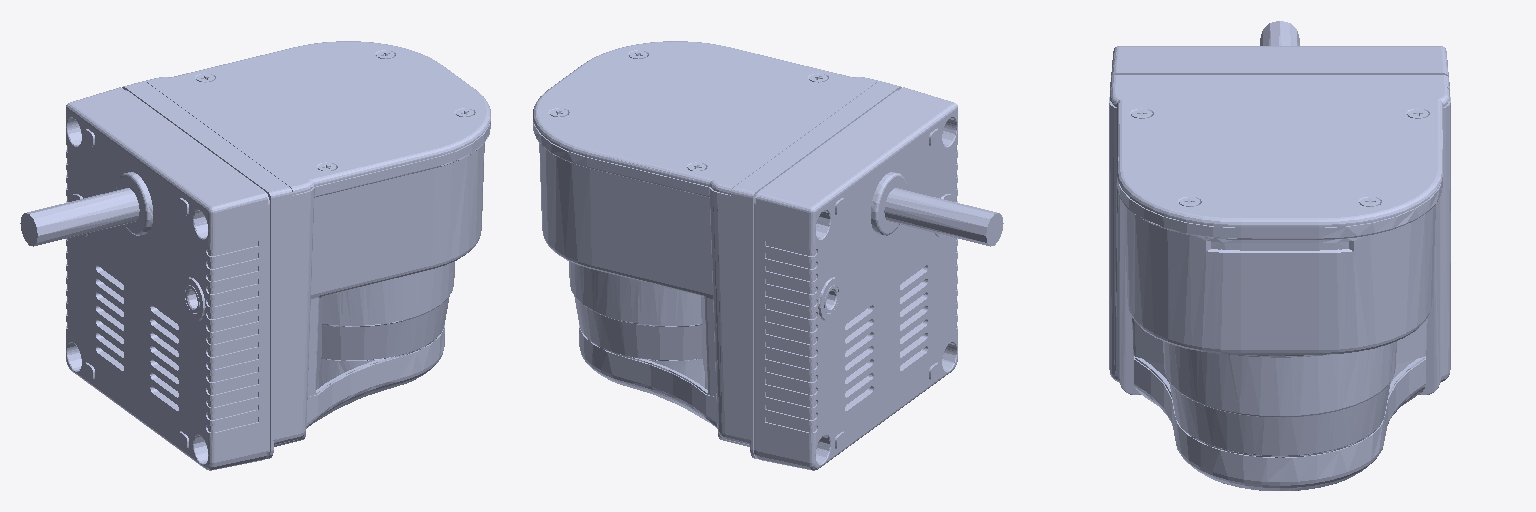
The robot description file, URDF, robot "RS3":
<robot
  name="RS3">
  <link
    name="base_link">
    <inertial>
      <origin
        xyz="-0.079655 -8.9506E-05 0.19583"
        rpy="0 0 0" />
      <mass
        value="20.959" />
      <inertia
        ixx="1.508"
        ixy="-0.00017676"
        ixz="0.024996"
        iyy="1.3558"
        iyz="0.00033804"
        izz="0.51605" />
    </inertial>
    <visual>
      <origin
        xyz="0 0 0"
        rpy="0 0 0" />
      <geometry>
        <mesh
          filename="package://final_design_2/meshes/base_link.STL" />
      </geometry>
      <material
        name="">
        <color
          rgba="0.75294 0.75294 0.75294 1" />
      </material>
    </visual>
    <collision>
      <origin
        xyz="0 0 0"
        rpy="0 0 0" />
      <geometry>
        <mesh
          filename="package://final_design_2/meshes/base_link.STL" />
      </geometry>
    </collision>
  </link>
  <link
    name="base_scan">
    <inertial>
      <origin
        xyz="-0.018008 -9.1976E-06 -0.0097984"
        rpy="0 0 0" />
      <mass
        value="0.20455" />
      <inertia
        ixx="1.8041E-09"
        ixy="-2.9272E-10"
        ixz="4.181E-10"
        iyy="1.6875E-09"
        iyz="2.16E-10"
        izz="1.4052E-09" />
    </inertial>
    <visual>
      <origin
        xyz="0 0 0"
        rpy="0 0 0" />
      <geometry>
        <mesh
          filename="package://final_design_2/meshes/base_scan.STL" />
      </geometry>
      <material
        name="">
        <color
          rgba="0.79216 0.81961 0.93333 1" />
      </material>
    </visual>
    <collision>
      <origin
        xyz="0 0 0"
        rpy="0 0 0" />
      <geometry>
        <mesh
          filename="package://final_design_2/meshes/base_scan.STL" />
      </geometry>
    </collision>
  </link>
  <joint
    name="scan_joint"
    type="fixed">
    <origin
      xyz="0.1435 -0.001 -0.0109"
      rpy="3.1416 1.5951E-15 -4.6837E-16" />
    <parent
      link="base_link" />
    <child
      link="base_scan" />
    <axis
      xyz="0 0 0" />
  </joint>
</robot>

--- What the picture shows (computed from the rendered views, not written in the file) ---
The picture shows the robot from 3 angles, left to right: view 1: azimuth 30°, elevation 25°; view 2: azimuth 150°, elevation 25°; view 3: azimuth 270°, elevation 25°; orthographic projection.
Model RS3 with 2 links and 1 joints (1 fixed), rooted at base_link, posed every joint at zero.
Visible links, largest first — view 1: base_scan; view 2: base_scan; view 3: base_scan.
Link boxes in pixels (x1,y1,x2,y2): base_scan: [20, 41, 490, 470]; base_scan: [533, 41, 1003, 470]; base_scan: [1109, 21, 1450, 490].
Size in the robot's own frame: 0.1002 by 0.0606 by 0.06 metres.
1 mesh visuals loaded from 2 distinct referenced files (1 binary STL); not drawn: 1 (reference not matched to a file when rendering).